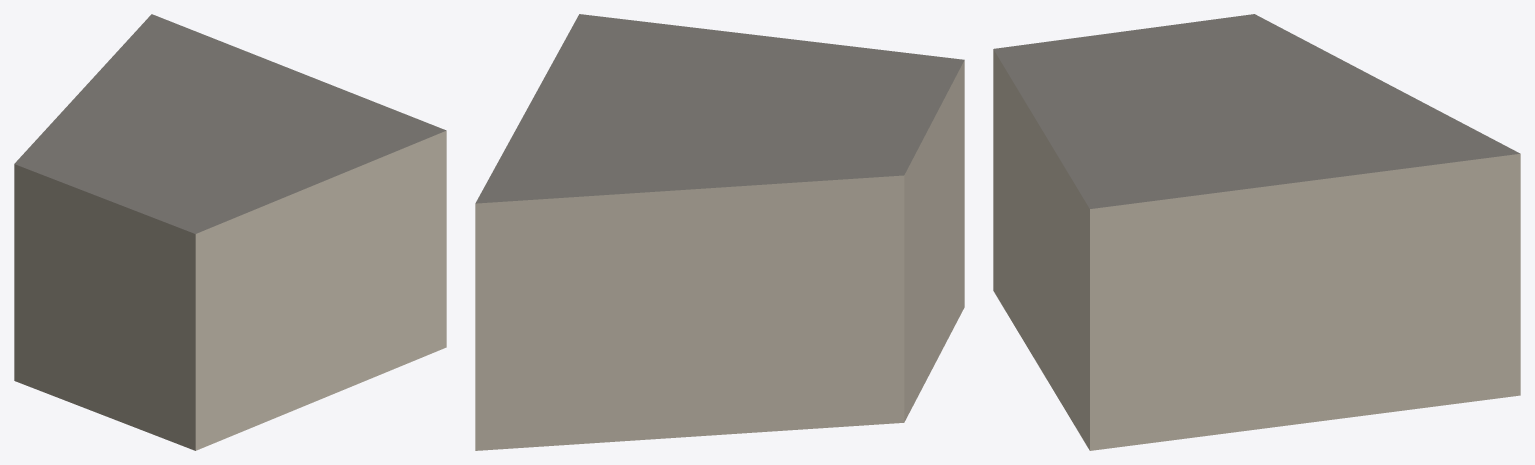
3 renders of one model, left to right at view 1: azimuth 30°, elevation 25°; view 2: azimuth 150°, elevation 25°; view 3: azimuth 270°, elevation 25°, orthographic. The views are drawn at different scales.
Visible parts, largest first — view 1: HP-w1287059325; view 2: HP-w1287059325; view 3: HP-w1287059325.
Boxes of the visible parts, left/top/right/bottom form: HP-w1287059325: left=14, top=14, right=446, bottom=450; HP-w1287059325: left=475, top=14, right=964, bottom=450; HP-w1287059325: left=993, top=14, right=1520, bottom=450.
Size of the model in its own units: 31.16 by 18 by 35.58.
